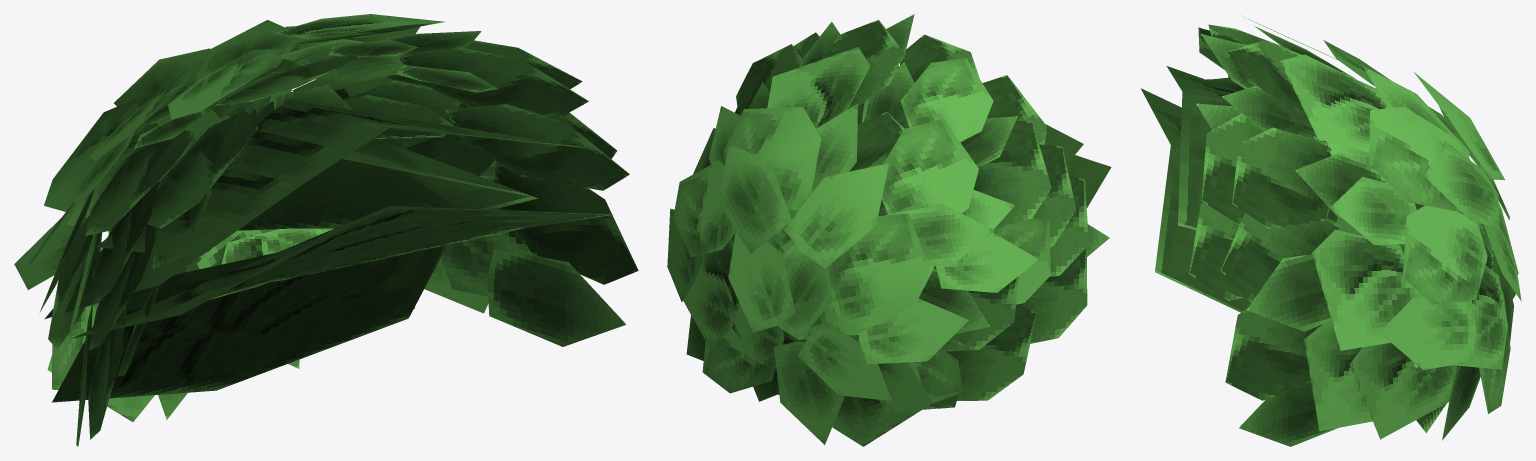
The model's file is bush-azalea.glb.
The picture shows the model from 3 angles, left to right: view 1: azimuth 30°, elevation 25°; view 2: azimuth 150°, elevation 25°; view 3: azimuth 270°, elevation 25°; orthographic projection. The views are drawn at different scales.
Parts seen in each view (by area): view 1: PltBushAzalea__PltBushAzalea4_node1; view 2: PltBushAzalea__PltBushAzalea4_node1; view 3: PltBushAzalea__PltBushAzalea4_node1.
Part boxes in pixels (x1=…): PltBushAzalea__PltBushAzalea4_node1: x1=14, y1=14, x2=638, y2=446; PltBushAzalea__PltBushAzalea4_node1: x1=667, y1=14, x2=1111, y2=446; PltBushAzalea__PltBushAzalea4_node1: x1=1141, y1=15, x2=1521, y2=446.
Size of the model in its own units: 1.07 by 0.9104 by 0.8184.
Materials: 1 (1 with a texture image).
